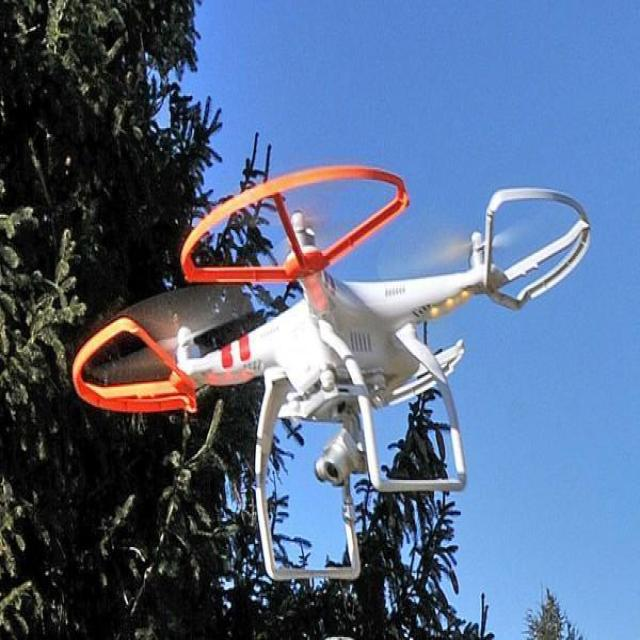drone: (71, 160, 593, 576)
